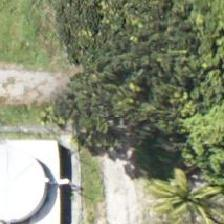coconut_tree: (141, 144, 223, 223)
